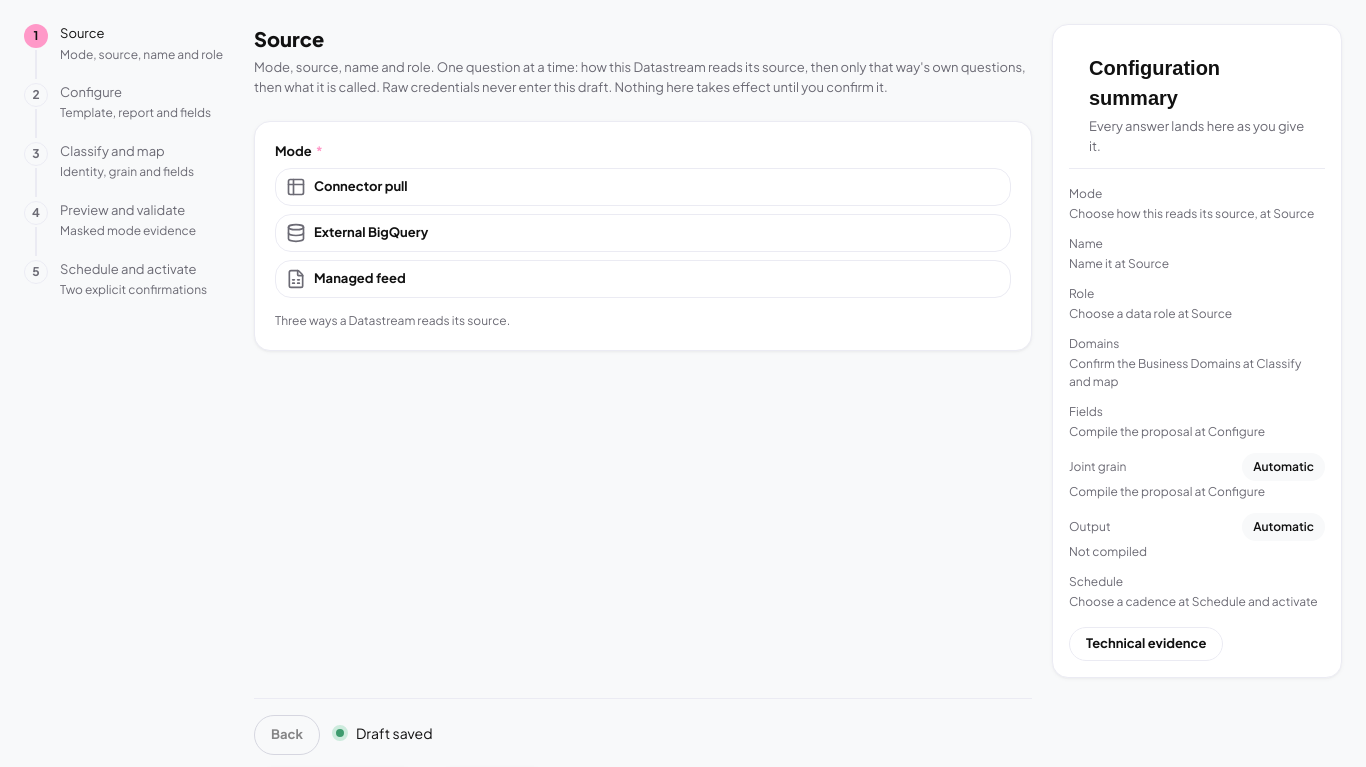
Test: says a webhook has a token rather than a dedicated URL
Click the radio button labelled "Managed feed" at (360, 278), box [275,260,1011,298]
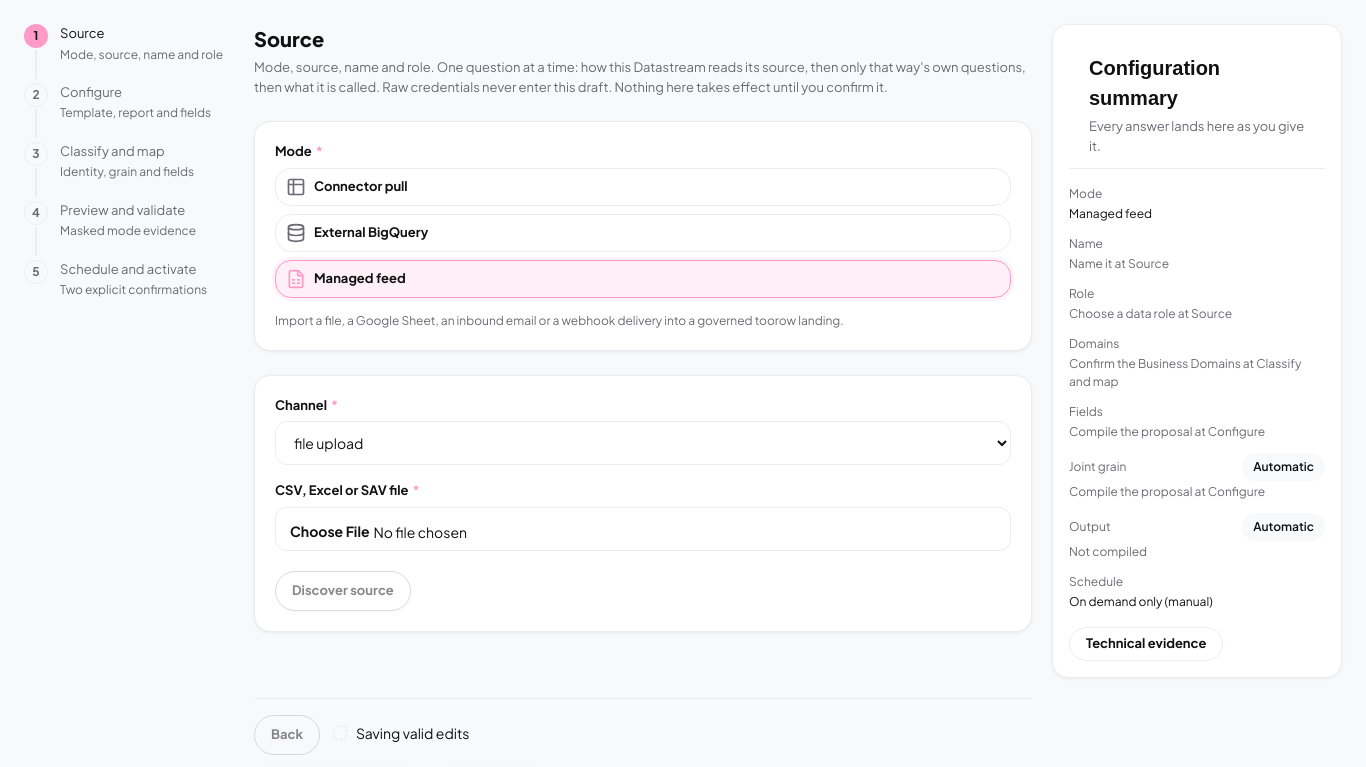
Select "webhook" in the dropdown labelled "Channel*" at (643, 443), box [275,421,1011,465]
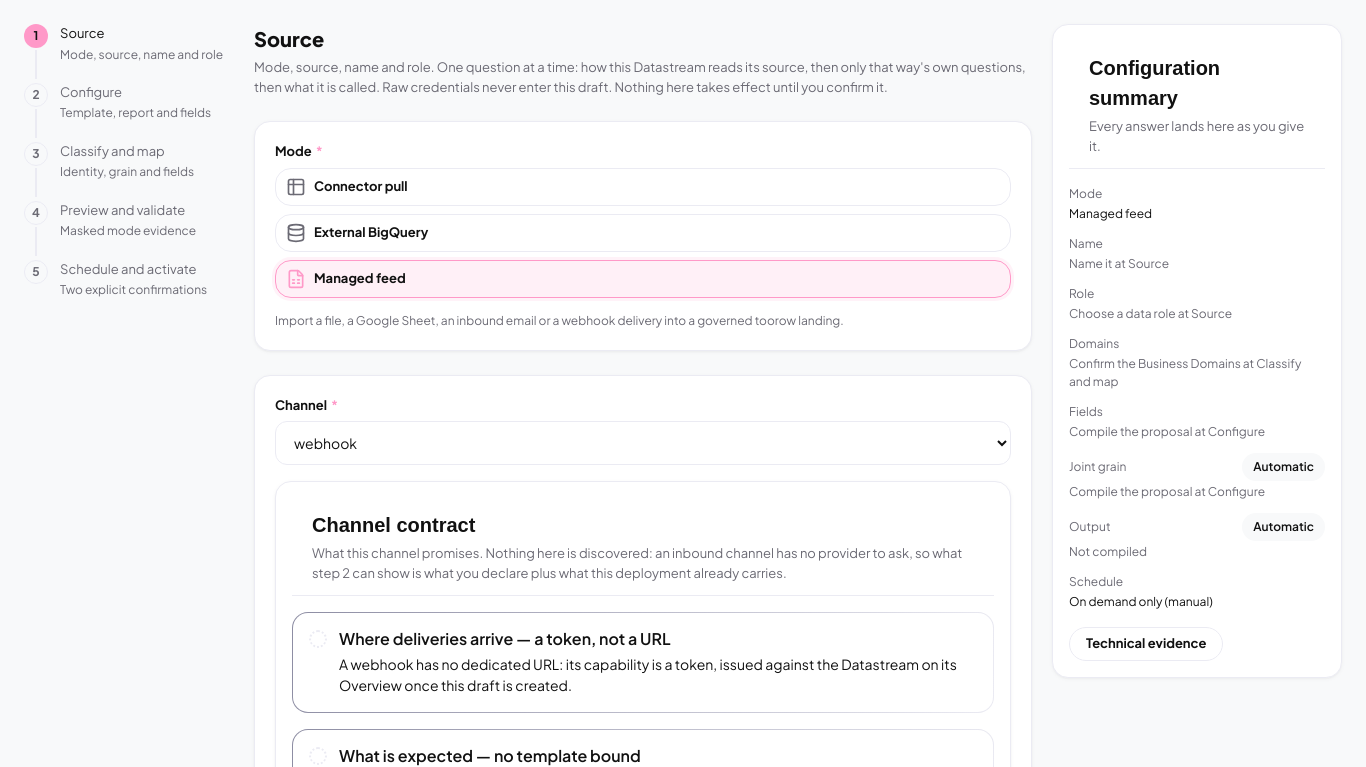
expect the text "Where deliveries arrive — a token, not a URL" is shown: met, box [339,628,671,649]
